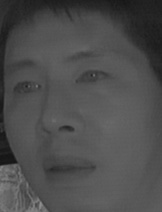eye: (72, 67, 115, 88), (7, 79, 45, 96)
mouth: (39, 147, 97, 186)
